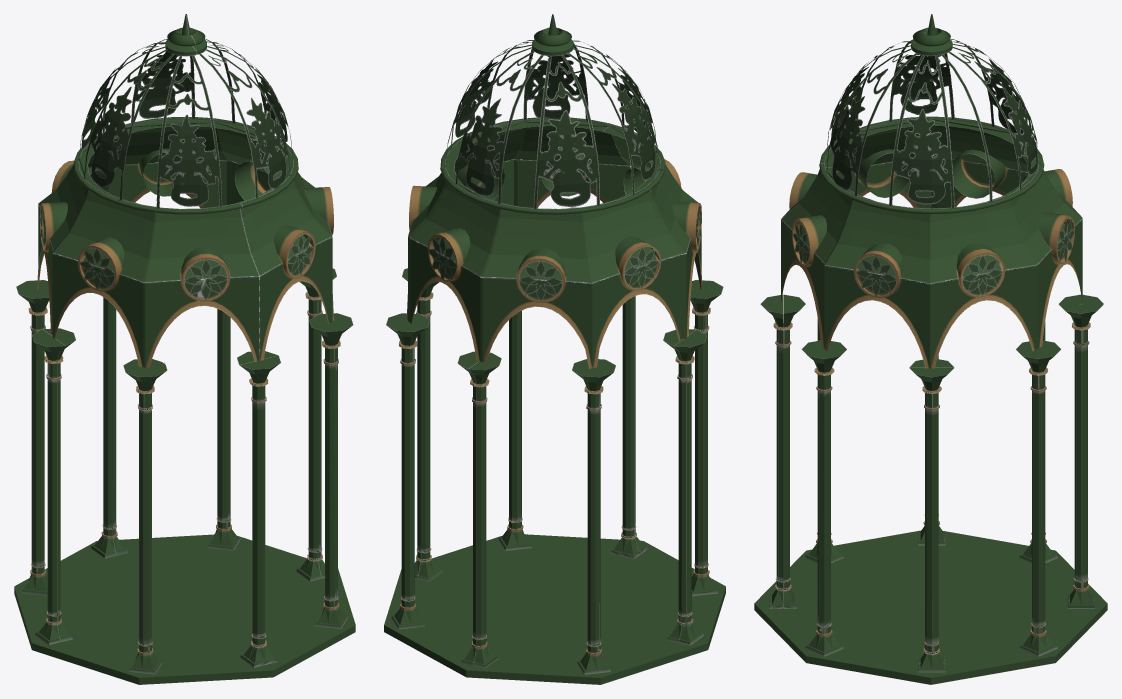
The picture shows the model from 3 angles, left to right: view 1: azimuth 30°, elevation 25°; view 2: azimuth 150°, elevation 25°; view 3: azimuth 270°, elevation 25°; orthographic projection.
Visible parts, largest first — view 1: Gengon001; view 2: Gengon001; view 3: Gengon001.
Part boxes in pixels (x1,y1,x2,y2): Gengon001: (14,14,355,684); Gengon001: (384,14,725,684); Gengon001: (754,14,1107,684).
Bounding box in the file's own units: 87.75 × 164 × 87.75.
Materials: 1 (1 with a texture image).
